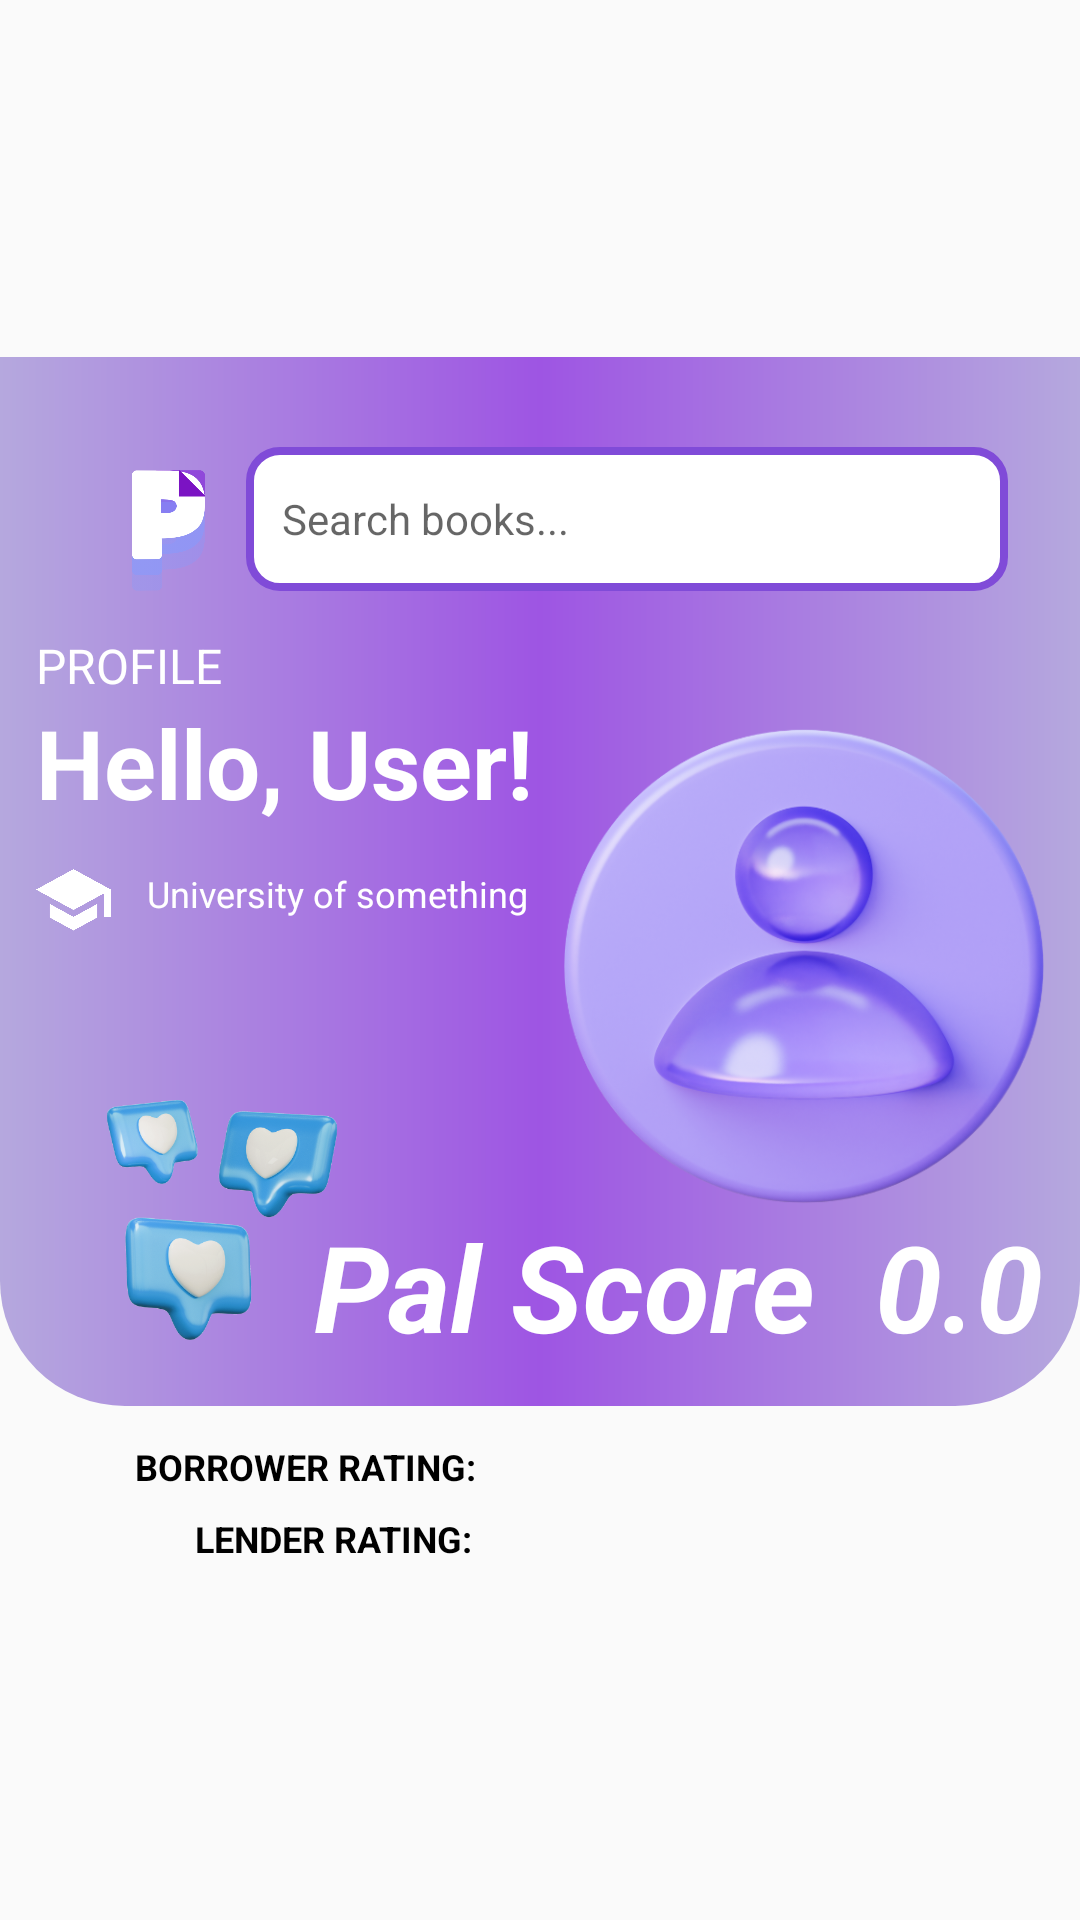

Icons on this 1080 × 1920 Android screen, each with the point to tap as (x,y):
heart: (222,1220)
